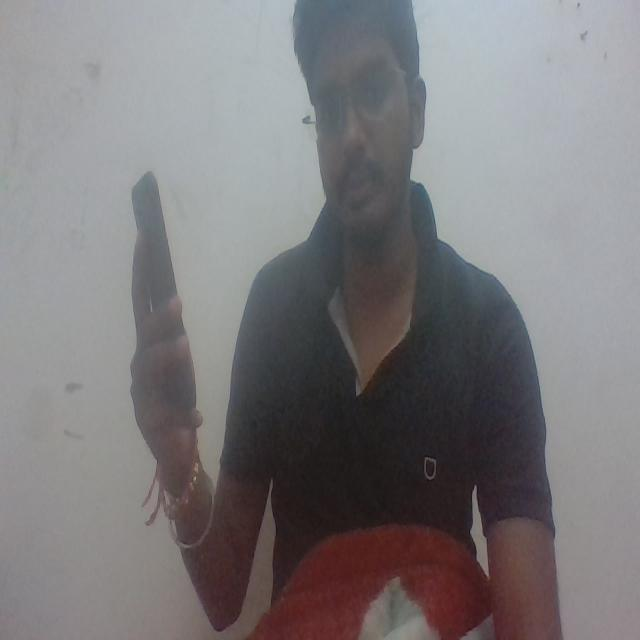Phone: (126, 166, 201, 417)
